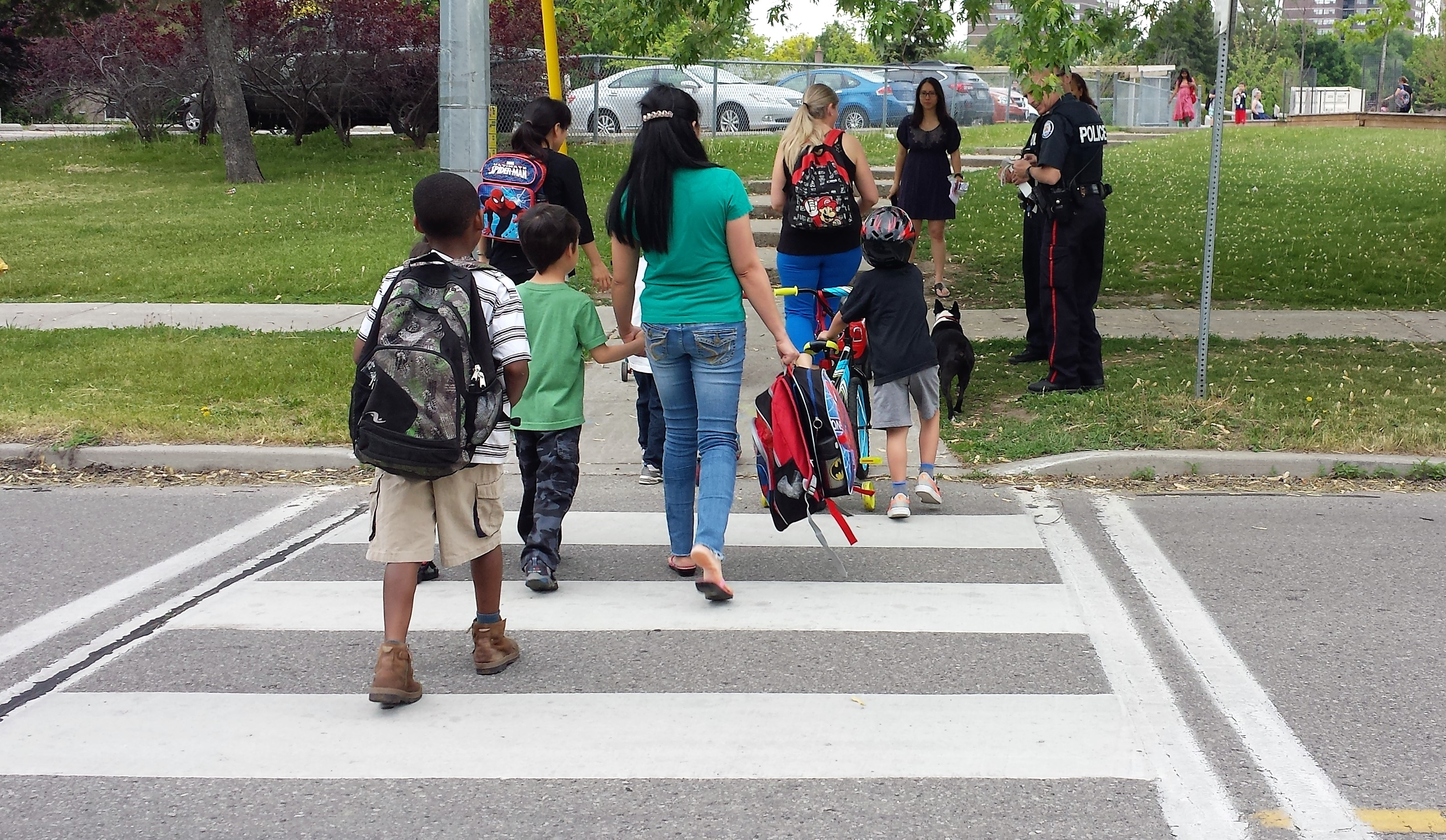Car: (548, 49, 826, 134)
Crosswalk: (79, 564, 1320, 840)
Person: (339, 171, 538, 719), (611, 85, 769, 607), (836, 209, 958, 538), (1005, 60, 1120, 394), (764, 98, 870, 369)
